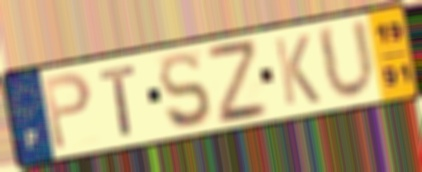K: (271, 32, 324, 109)
P: (40, 69, 94, 154)
S: (156, 49, 214, 132)
T: (97, 62, 140, 139)
U: (314, 15, 380, 103)
Z: (203, 39, 272, 128)
